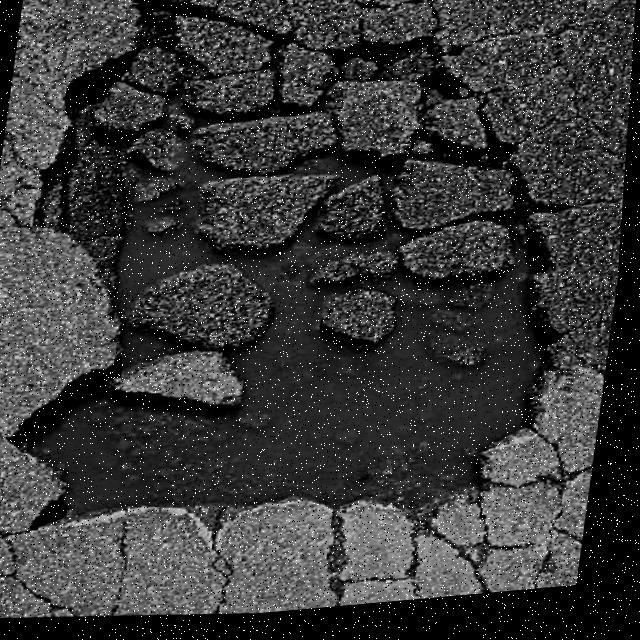pothole: (0, 0, 624, 577)
